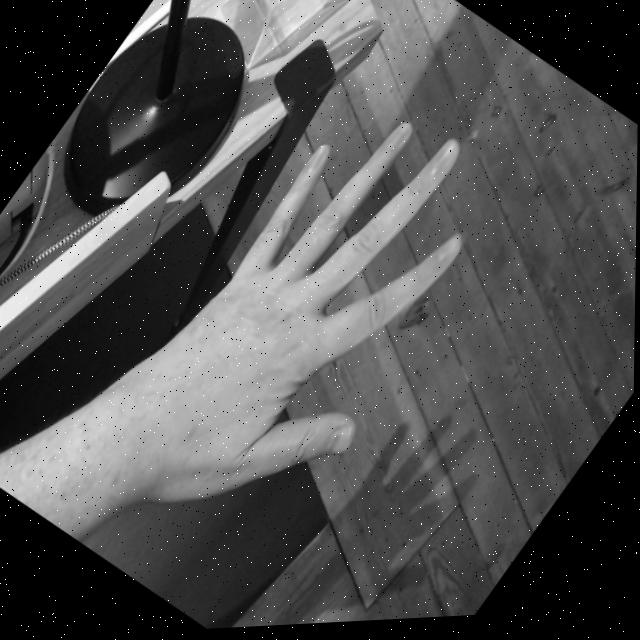hand: (91, 68, 538, 581)
